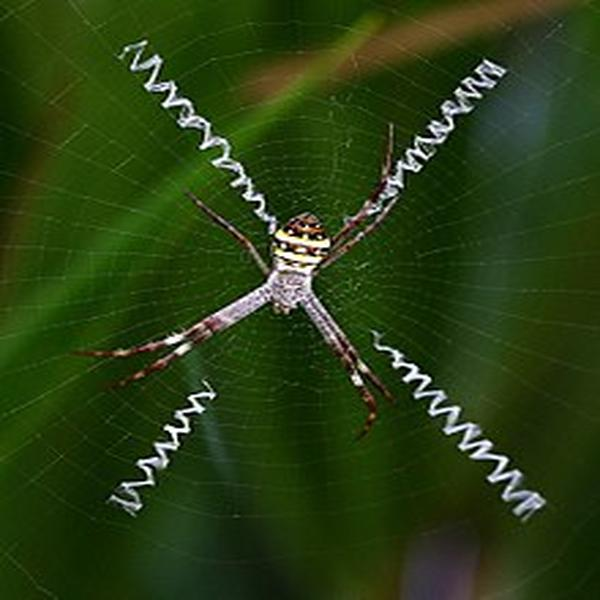St Andrew's Cross Spider: (86, 125, 399, 436)
